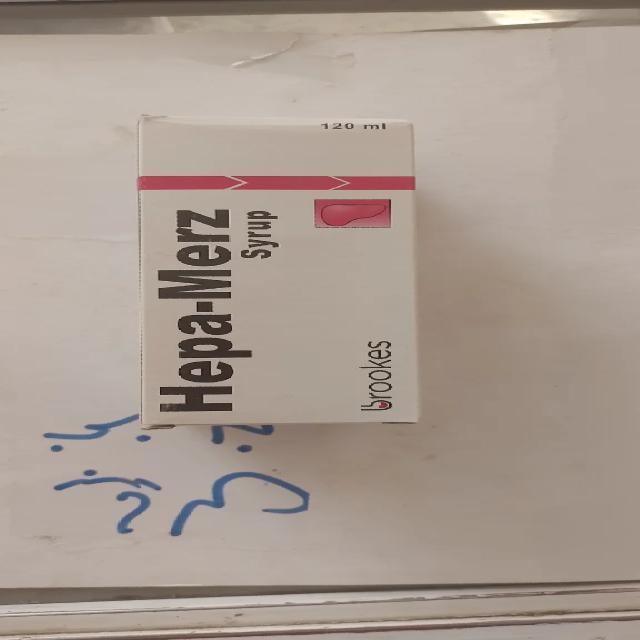drug-name: (154, 207, 252, 416)
